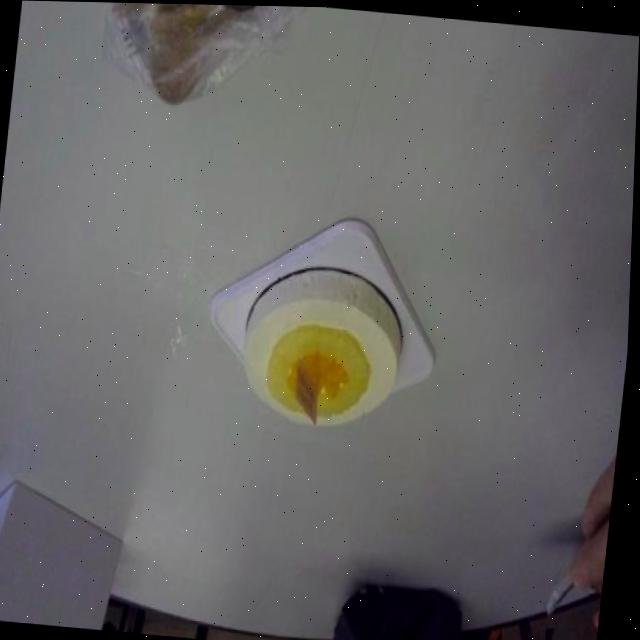鸡蛋料理: (0, 18, 572, 570)
